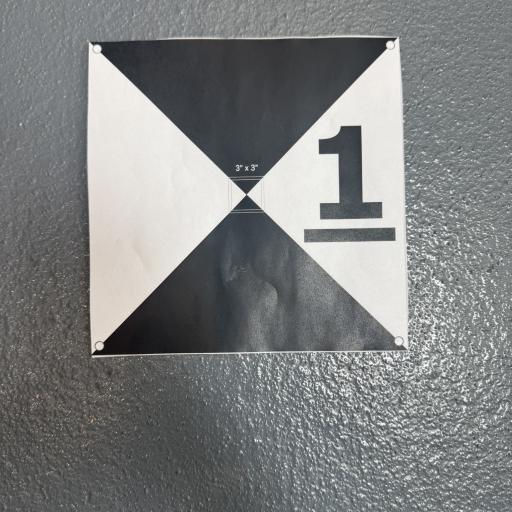target1: (81, 32, 409, 362)
